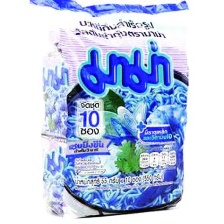snack: (14, 0, 200, 224)
